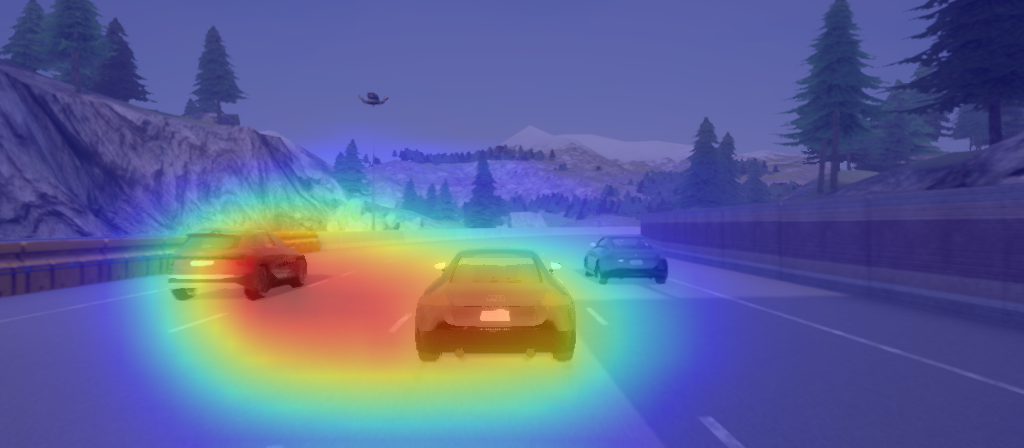Barrier: (683, 211, 1001, 299), (11, 237, 164, 282)
Car: (412, 243, 582, 370), (160, 223, 313, 306), (580, 230, 675, 288)
Lane Marker: (686, 410, 754, 448), (167, 310, 237, 335), (388, 307, 417, 341), (581, 303, 613, 329)
Light Pole: (355, 86, 395, 232)
